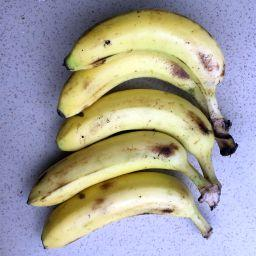banana: (61, 6, 239, 159), (54, 50, 240, 159), (54, 86, 225, 195), (24, 129, 225, 213), (38, 167, 216, 253)
